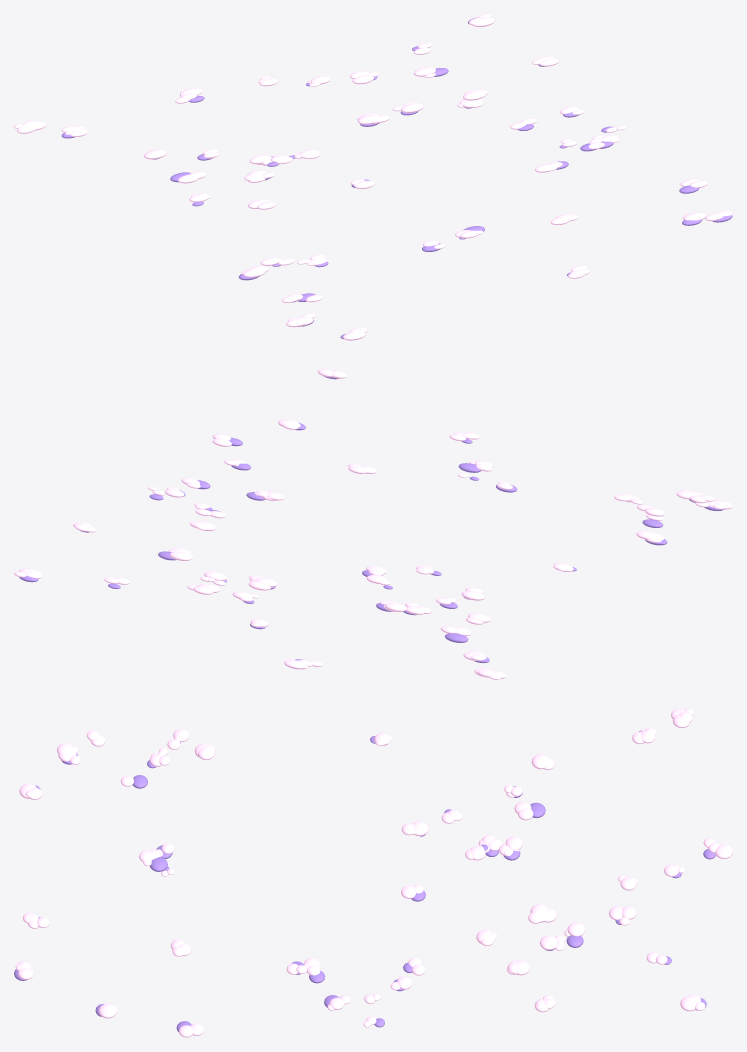
File: mundo-nuvens.glb
The picture shows the model from 3 angles, top to bottom: view 1: azimuth 30°, elevation 25°; view 2: azimuth 150°, elevation 25°; view 3: azimuth 270°, elevation 25°; orthographic projection. The views are drawn at different scales.
Size of the model in its own units: 6674 by 580 by 6834.
